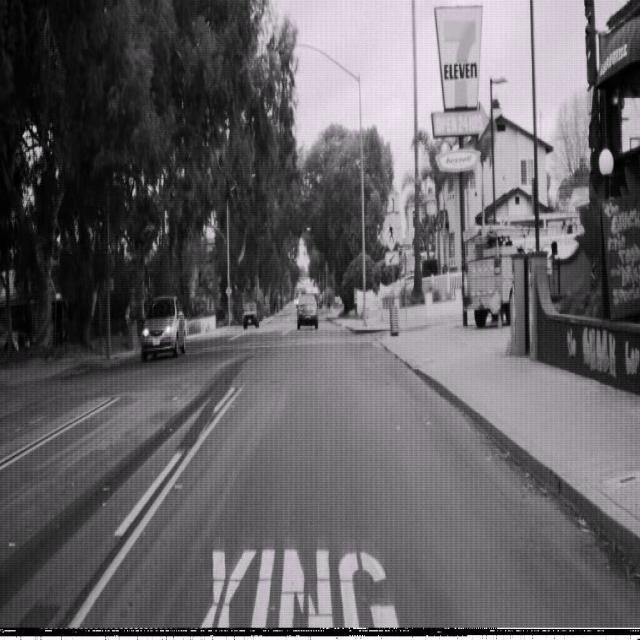pedestrianCrossing: (381, 214, 400, 252)
